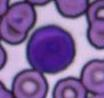L: (26, 24, 76, 73)
